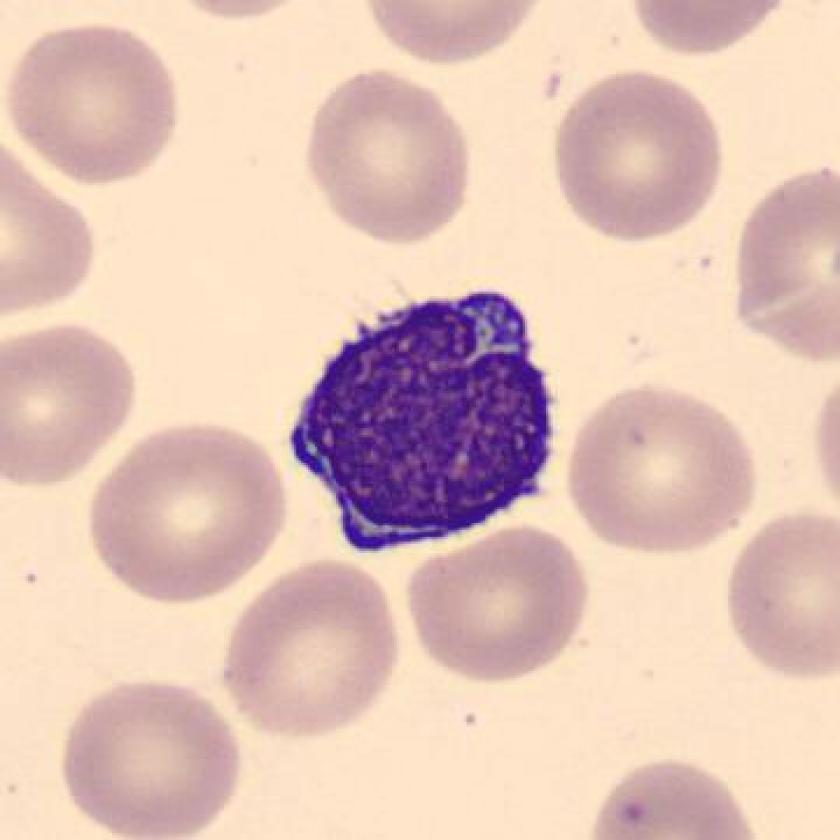lymphocyte: (267, 281, 575, 566)
